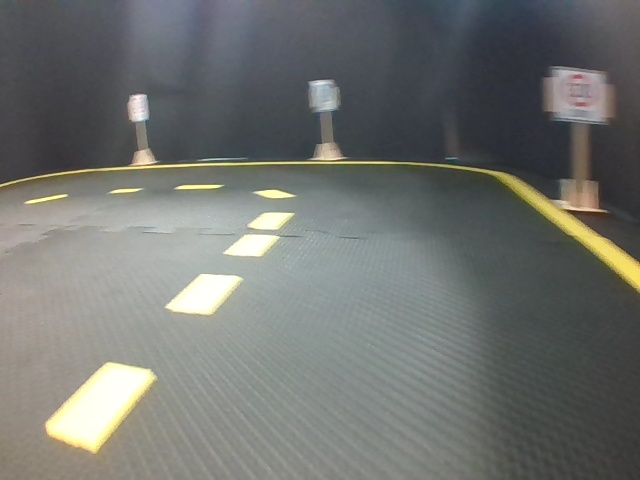30: (555, 66, 603, 123), (130, 95, 146, 121)
no30: (311, 81, 334, 110)
